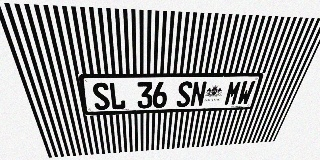3: (137, 82, 153, 109)
6: (152, 82, 168, 108)
L: (108, 82, 126, 110)
M: (223, 81, 243, 105)
N: (190, 81, 207, 107)
S: (91, 82, 111, 110), (176, 81, 193, 107)
W: (236, 80, 256, 105)
